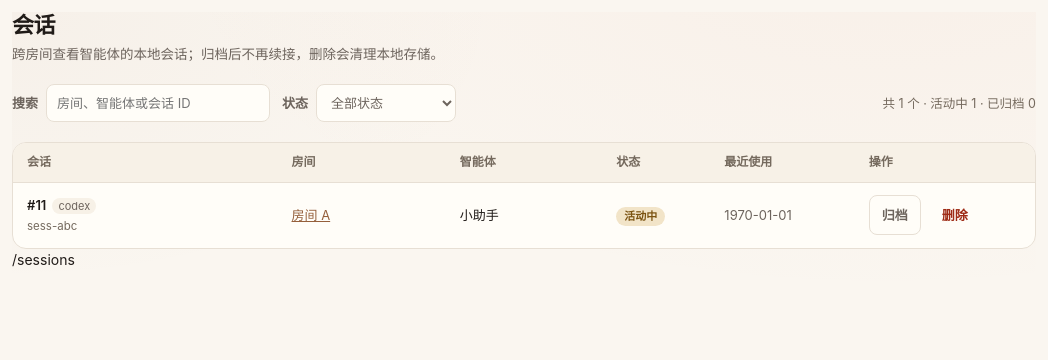
Test: SessionsPage 右键菜单 › 打开房间与打开最近运行走路由导航
Right-click the text "房间 A" at (74, 206), box x1=13 y1=182 x2=1035 y2=248
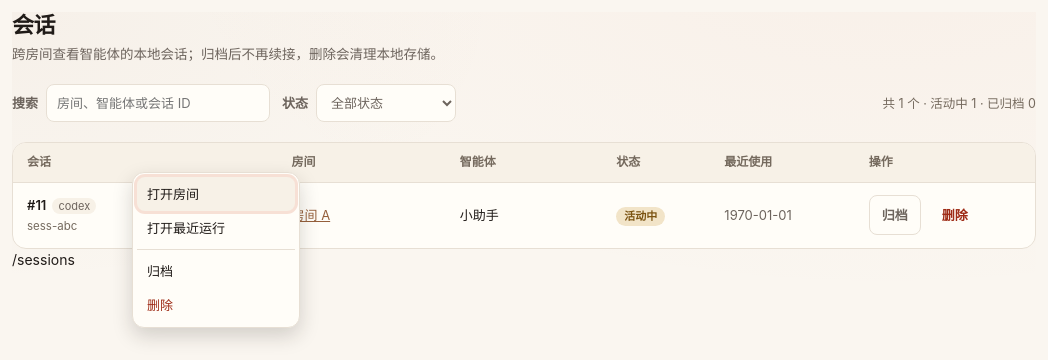
Click the menu item "打开房间" at (216, 194), box x1=137 y1=177 x2=295 y2=211
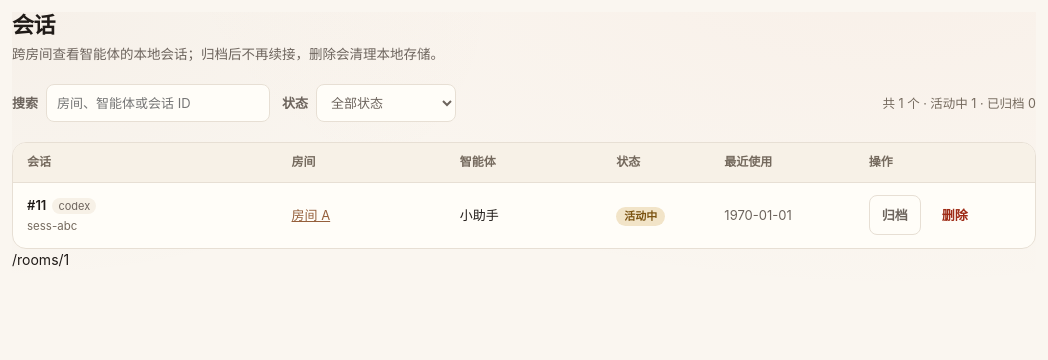
Result: the text with test id "location" reads "/rooms/1" at x1=12 y1=251 x2=69 y2=268
Result: the menu is gone
Right-click the text "房间 A" at (74, 206), box x1=13 y1=182 x2=1035 y2=248
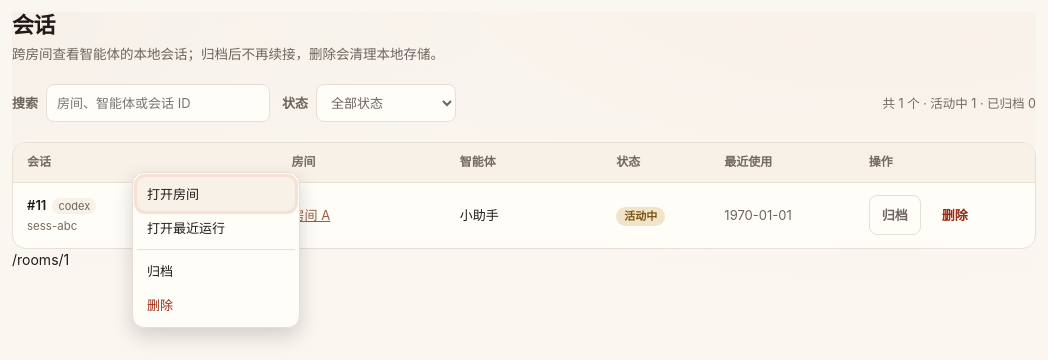
Click the menu item "打开最近运行" at (216, 228), box x1=137 y1=211 x2=295 y2=245
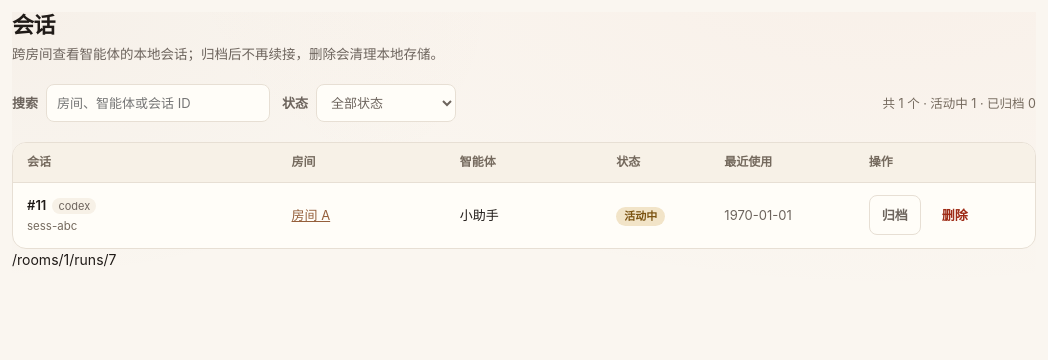
Result: the text with test id "location" reads "/rooms/1/runs/7" at x1=12 y1=251 x2=116 y2=268
